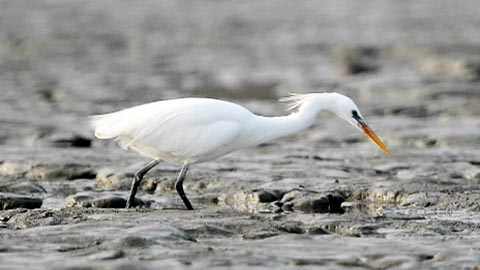ergret: (95, 81, 389, 211)
